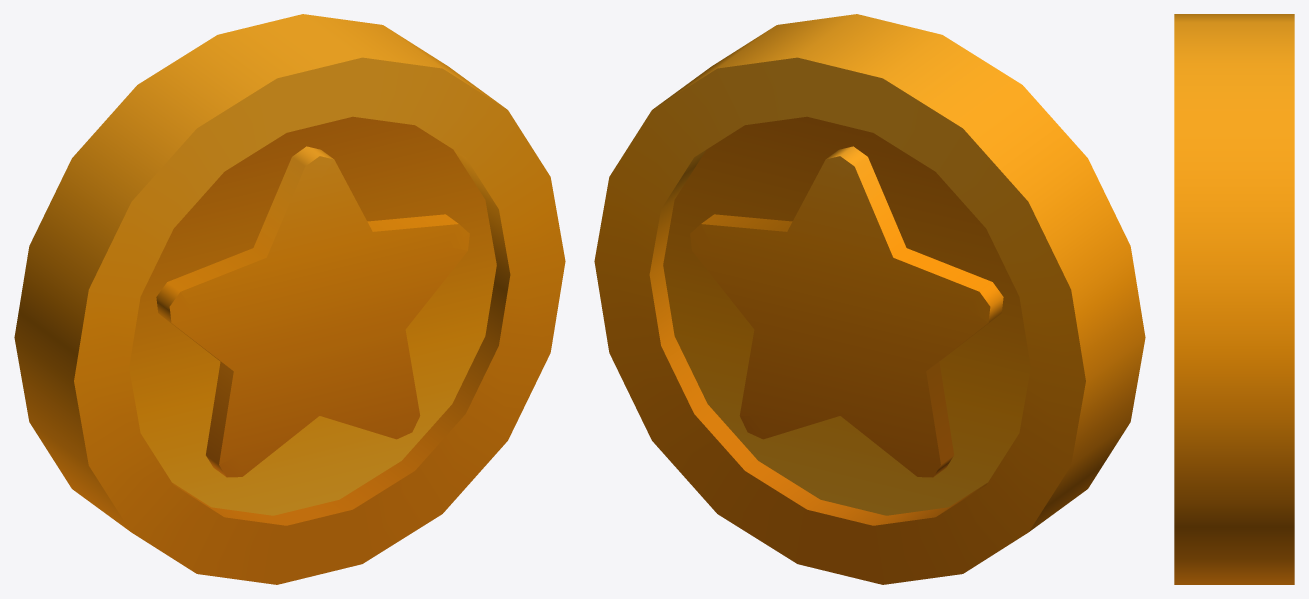
The model's file is Collectable_Coin_02.fbx.
3 renders of one model, left to right at view 1: azimuth 30°, elevation 25°; view 2: azimuth 150°, elevation 25°; view 3: azimuth 270°, elevation 25°, orthographic.
Visible parts, largest first — view 1: Collectable_Coin_02; view 2: Collectable_Coin_02; view 3: Collectable_Coin_02.
Part boxes in pixels (<box>): Collectable_Coin_02: <box>14,14,565,584</box>; Collectable_Coin_02: <box>594,14,1145,584</box>; Collectable_Coin_02: <box>1174,14,1294,584</box>.
Bounding box in the file's own units: 79.7 × 78.49 × 16.71.
1 material, 1 textured.
